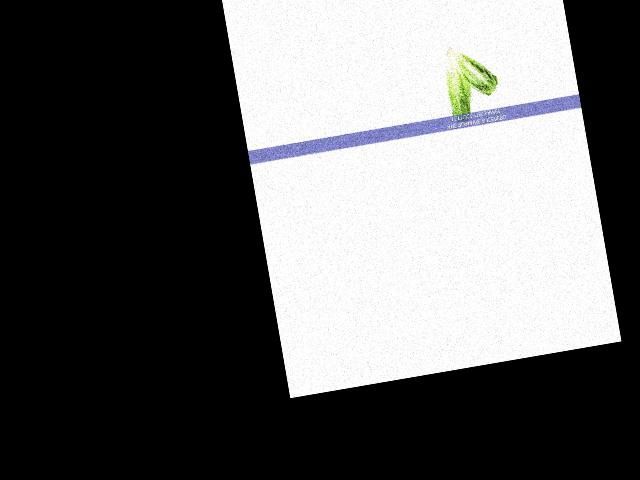lettuce: (444, 33, 498, 104)
